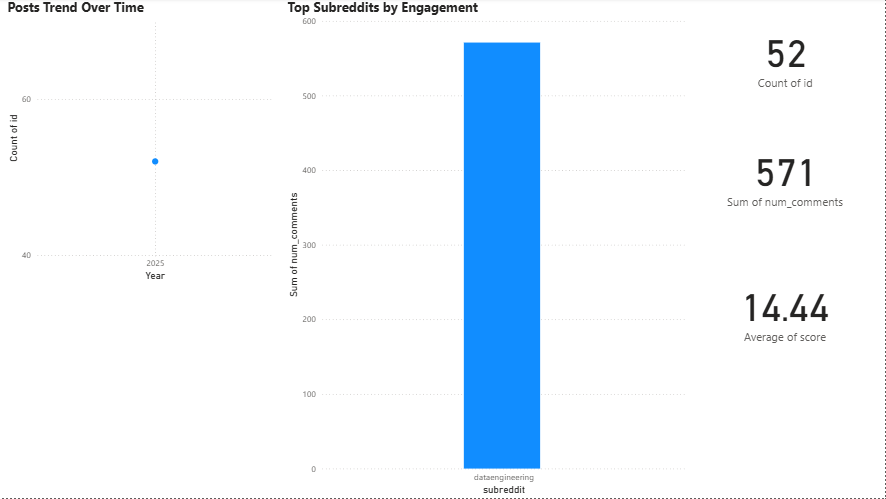

What the dashboard file says about the page in this screenshot:
{"tool":"powerbi","page":{"name":"Page 1","canvas":[1280,720],"ordinal":0},"visuals":[{"type":"lineChart","title":"Posts Trend Over Time","fields":{"Category":["reddit_posts (1).Date.Variation.Date Hierarchy.Year","reddit_posts (1).Date.Variation.Date Hierarchy.Quarter","reddit_posts (1).Date.Variation.Date Hierarchy.Month","reddit_posts (1).Date.Variation.Date Hierarchy.Day"],"Y":["CountNonNull(reddit_posts (1).id)"]},"box":[10.1,0,391.4,413.2],"z":0},{"type":"clusteredColumnChart","title":"Top Subreddits by Engagement","fields":{"Category":["reddit_posts (1).subreddit"],"Y":["Sum(reddit_posts (1).num_comments)"]},"box":[413.2,0,582.9,720.6],"z":1000},{"type":"card","fields":{"Values":["Sum(reddit_posts (1).num_comments)"]},"box":[1024.3,184.8,221.7,142.8],"z":2000},{"type":"card","fields":{"Values":["CountNonNull(reddit_posts (1).id)"]},"box":[1061.3,13.4,147.8,142.8],"z":3000},{"type":"card","fields":{"Values":["Avg(reddit_posts (1).score)"]},"box":[1006.6,380.2,256.3,139.7],"z":4000}]}

Visuals, with their boxes in screenshot pixels (x1, y1, x2, y2), scaled from the page's 1280x720 canvas onto the 886x499 screenshot:
"Posts Trend Over Time" lineChart: bbox(7, 0, 278, 286)
"Top Subreddits by Engagement" clusteredColumnChart: bbox(286, 0, 689, 498)
card - Sum(reddit_posts (1).num_comments): bbox(709, 128, 862, 227)
card - CountNonNull(reddit_posts (1).id): bbox(735, 9, 837, 108)
card - Avg(reddit_posts (1).score): bbox(697, 263, 874, 360)
